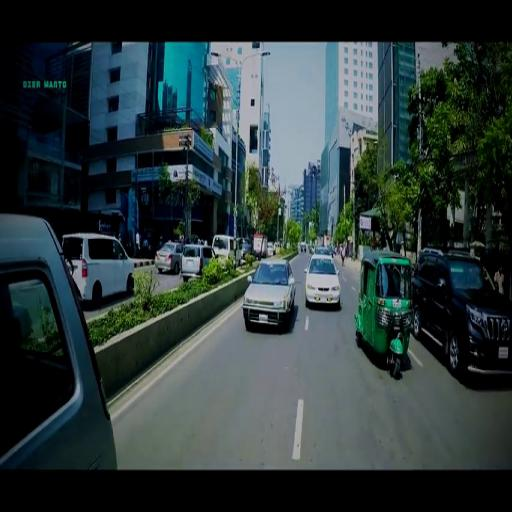car: (241, 258, 296, 329), (305, 254, 341, 309), (181, 242, 218, 281), (155, 241, 183, 273)
minivan: (61, 230, 136, 302), (212, 235, 242, 266)
suv: (412, 251, 511, 384)
three wheelers (CNG): (353, 249, 413, 377)
